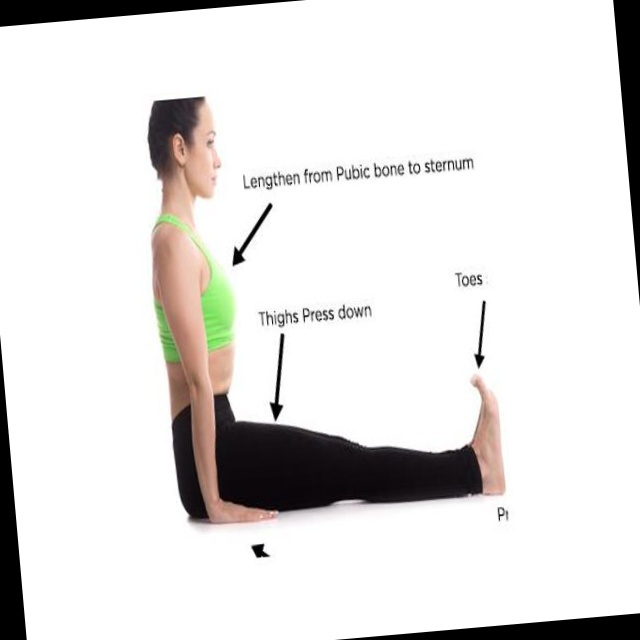Staff_Pose: (148, 97, 507, 525)
